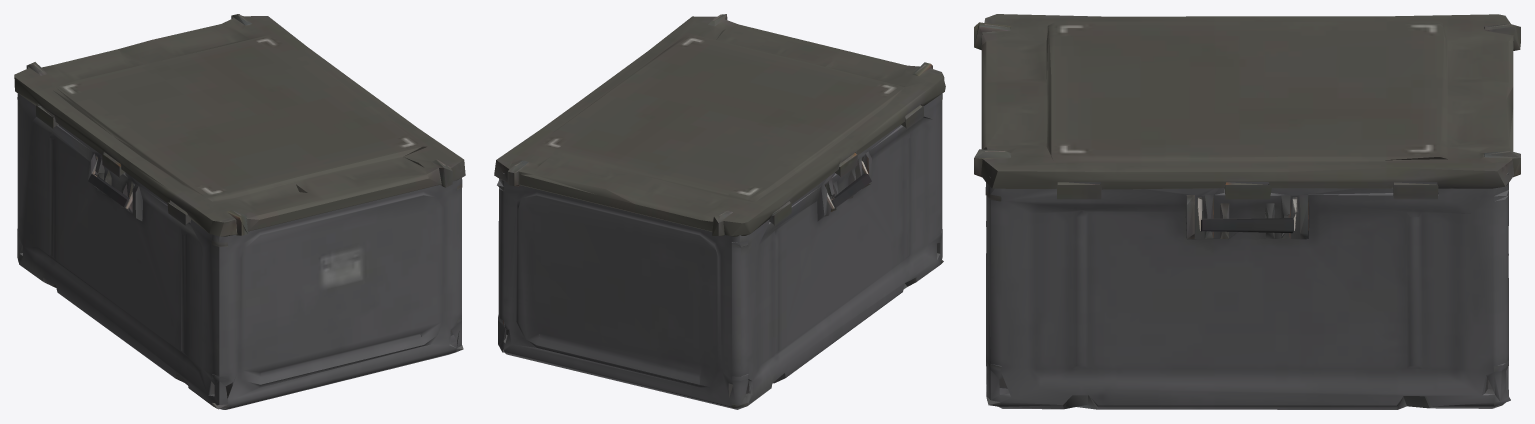
File: storage_box.glb
3 views of the same model, side by side, from view 1: azimuth 30°, elevation 25°; view 2: azimuth 150°, elevation 25°; view 3: azimuth 270°, elevation 25° (orthographic). The views are drawn at different scales.
Visible parts, largest first — view 1: storage_box_mesh, lid_01_mesh; view 2: storage_box_mesh, lid_01_mesh; view 3: storage_box_mesh, lid_01_mesh.
Boxes of the visible parts, x1,y1,x2,y2 form: storage_box_mesh: (17, 93, 463, 409); lid_01_mesh: (14, 14, 465, 236); storage_box_mesh: (497, 93, 943, 409); lid_01_mesh: (494, 14, 945, 236); storage_box_mesh: (985, 173, 1510, 409); lid_01_mesh: (974, 14, 1520, 189).
Size of the model in its own units: 0.7532 by 0.5297 by 1.05.
2 materials, 2 textured.
